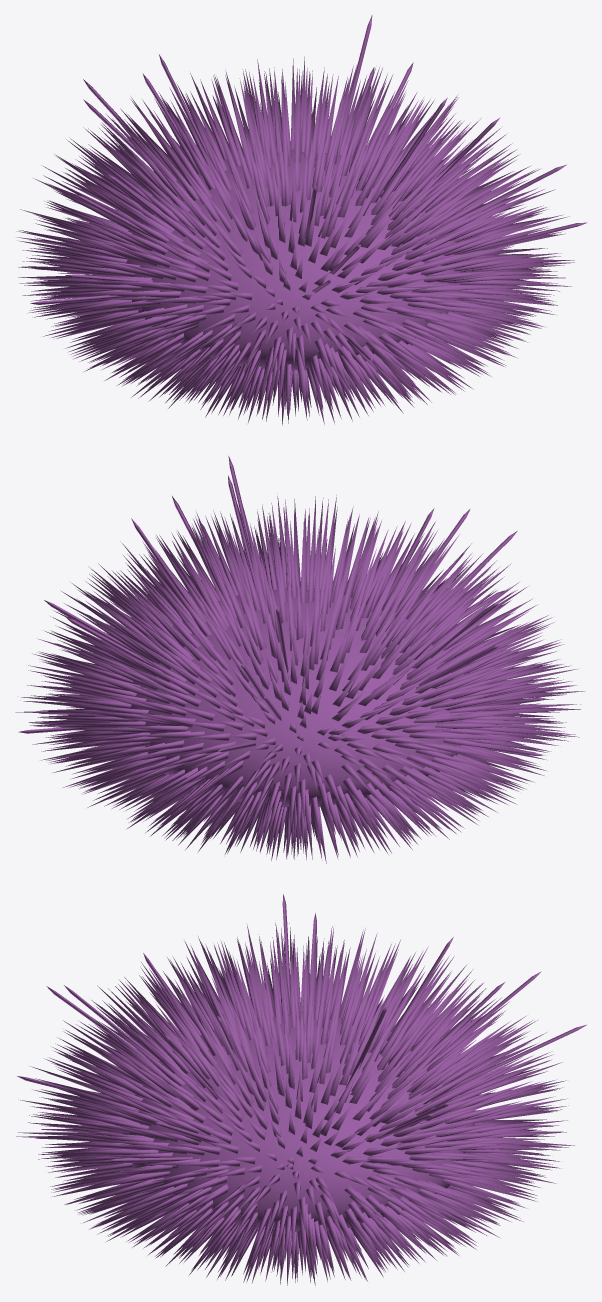
File: sea_urchin_purple.glb
The picture shows the model from 3 angles, top to bottom: view 1: azimuth 30°, elevation 25°; view 2: azimuth 150°, elevation 25°; view 3: azimuth 270°, elevation 25°; orthographic projection.
Visible parts, largest first — view 1: sea_urchin_purple; view 2: sea_urchin_purple; view 3: sea_urchin_purple.
Boxes of the visible parts, x1,y1,x2,y2 form: sea_urchin_purple: (16, 15, 587, 425); sea_urchin_purple: (15, 456, 584, 863); sea_urchin_purple: (16, 894, 586, 1285).
Bounding box in the file's own units: 0.1289 × 0.0692 × 0.1295.
